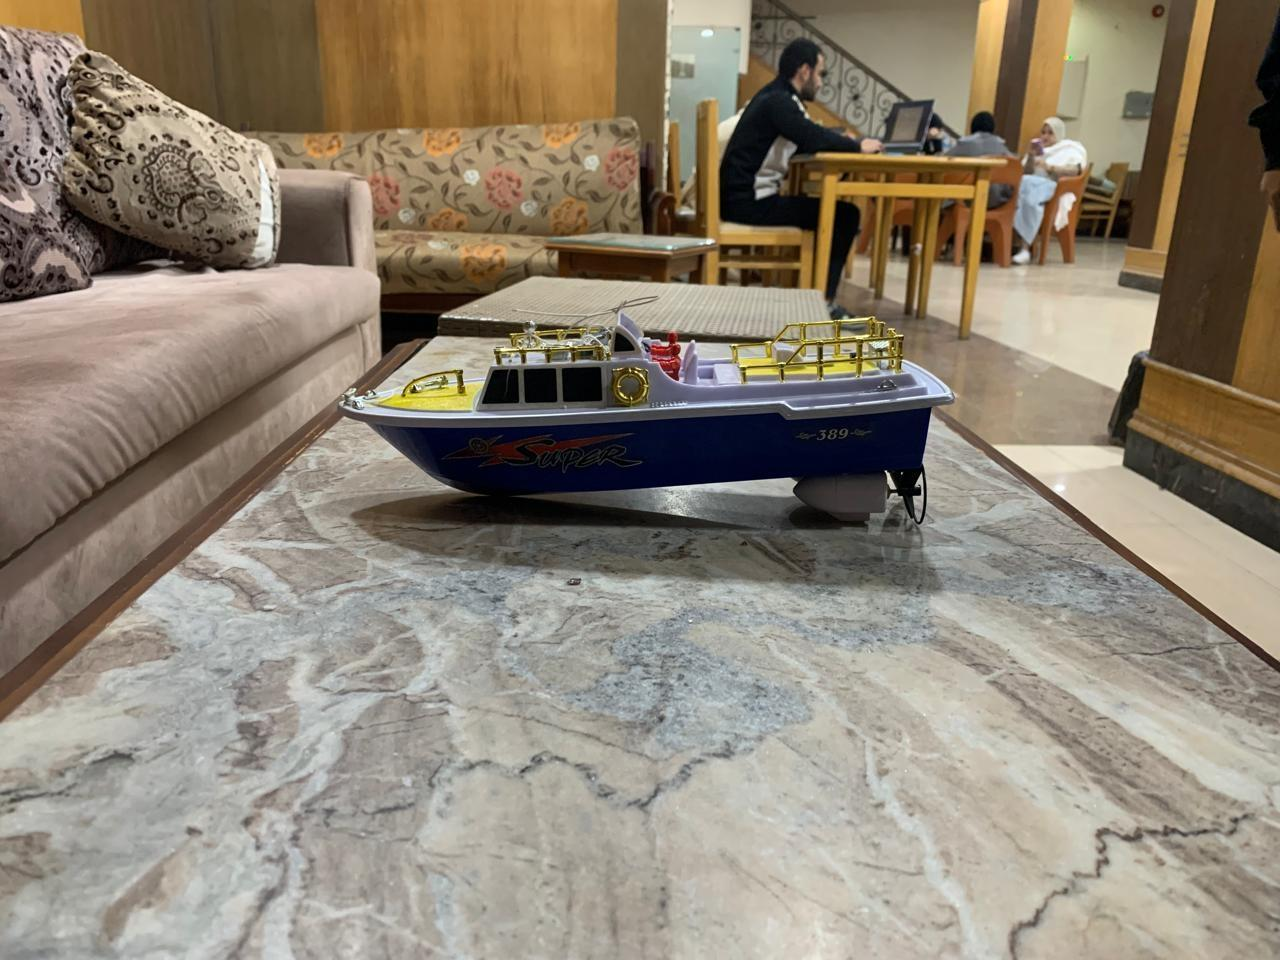Boat: (328, 300, 956, 534)
